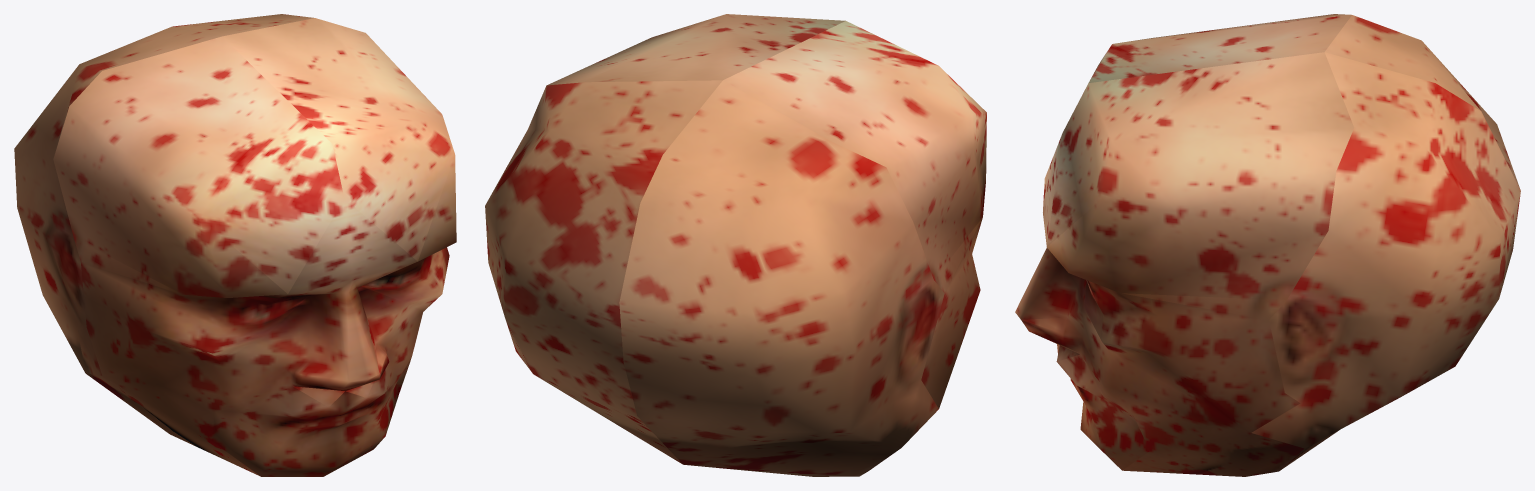
File: chaingunner_head.obj
3 renders of one model, left to right at view 1: azimuth 30°, elevation 25°; view 2: azimuth 150°, elevation 25°; view 3: azimuth 270°, elevation 25°, orthographic. The views are drawn at different scales.
Parts seen in each view (by area): view 1: Group; view 2: Group; view 3: Group.
Boxes of the visible parts, bbox=[...] form: Group: bbox=[14, 14, 456, 476]; Group: bbox=[485, 14, 986, 476]; Group: bbox=[1015, 14, 1520, 476].
Bounding box in the file's own units: 8.71 × 9.3 × 10.48.
1 material, 1 textured.
